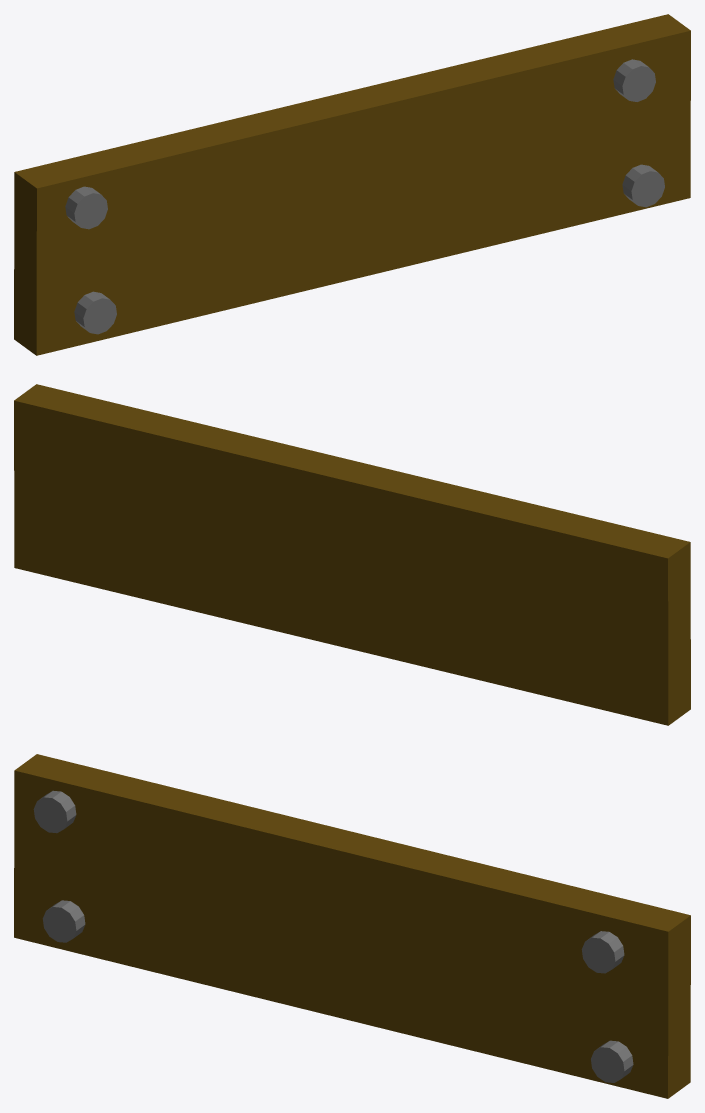
The model's file is Holzbrett.fbx.
The picture shows the model from 3 angles, top to bottom: view 1: azimuth 30°, elevation 25°; view 2: azimuth 150°, elevation 25°; view 3: azimuth 330°, elevation 25°; orthographic projection.
Parts seen in each view (by area): view 1: HolzBrett; view 2: HolzBrett; view 3: HolzBrett.
Part boxes in pixels (<box>): HolzBrett: <box>14,14,690,355</box>; HolzBrett: <box>14,384,690,725</box>; HolzBrett: <box>14,754,690,1098</box>.
Size of the model in its own units: 1.39 by 0.3425 by 0.1161.
